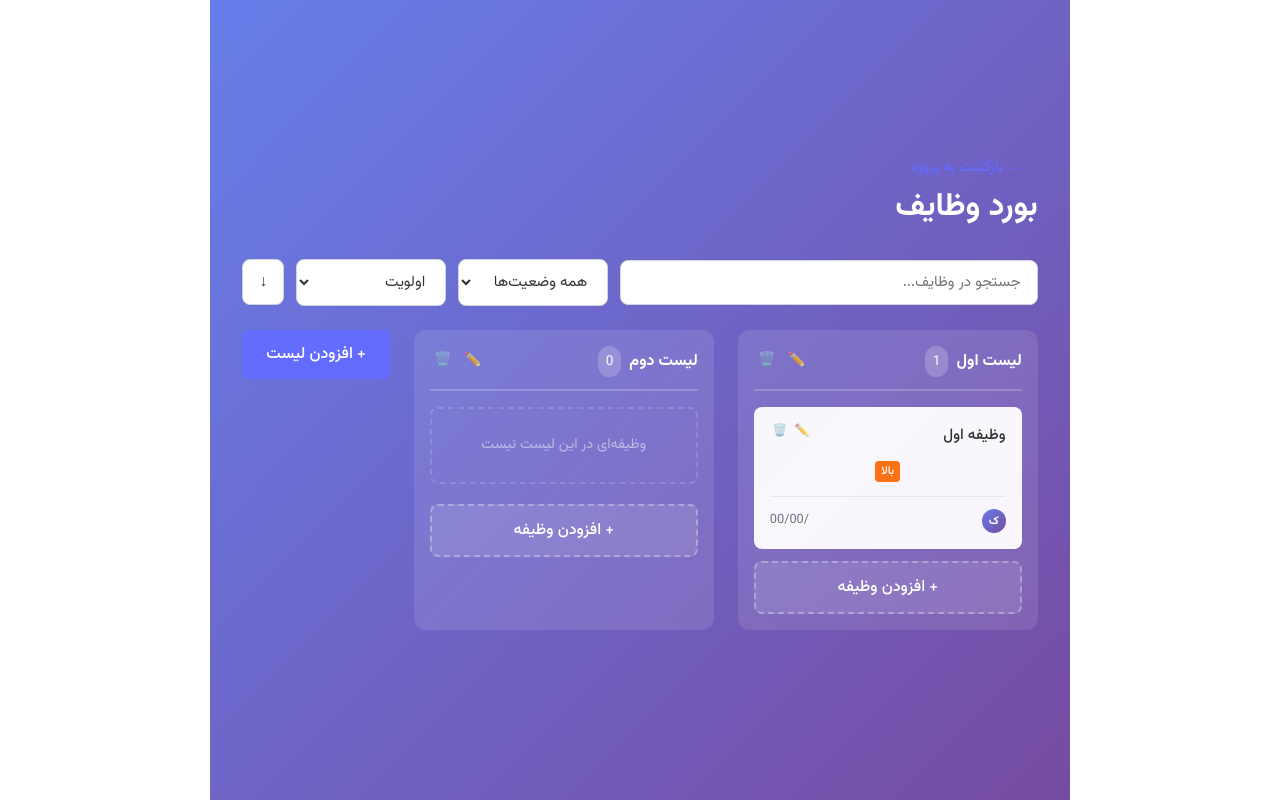
Test case: TaskBoard › Edit list › validates list name is required on update
The width and height of the screenshot is (1280, 800).
Expected: the heading "لیست اول" is shown, [956,348,1022,375]
Click the button "✏️" in the row of "لیست اول". click: x=797, y=362
box: [784,350,810,373]
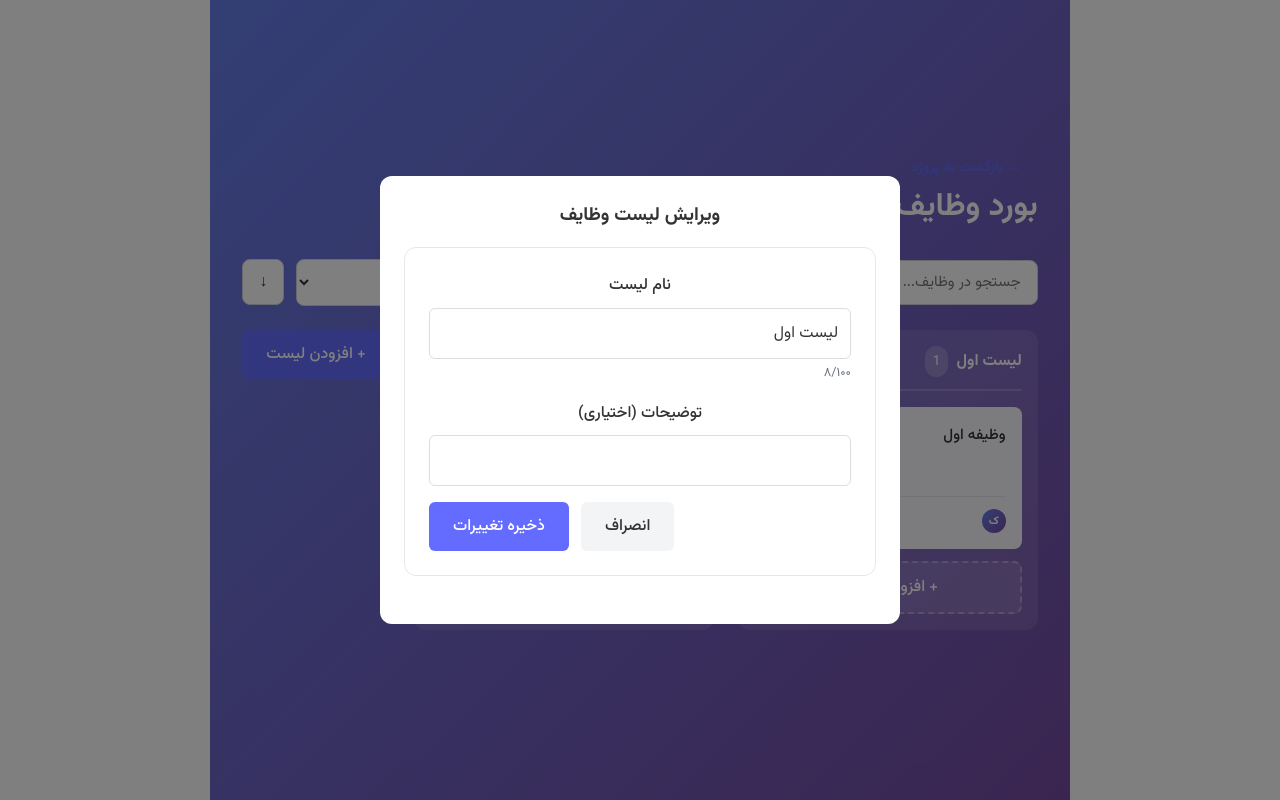
Click the field showing "لیست اول" below "نام لیست". click: x=640, y=333
box: [429,308,851,358]
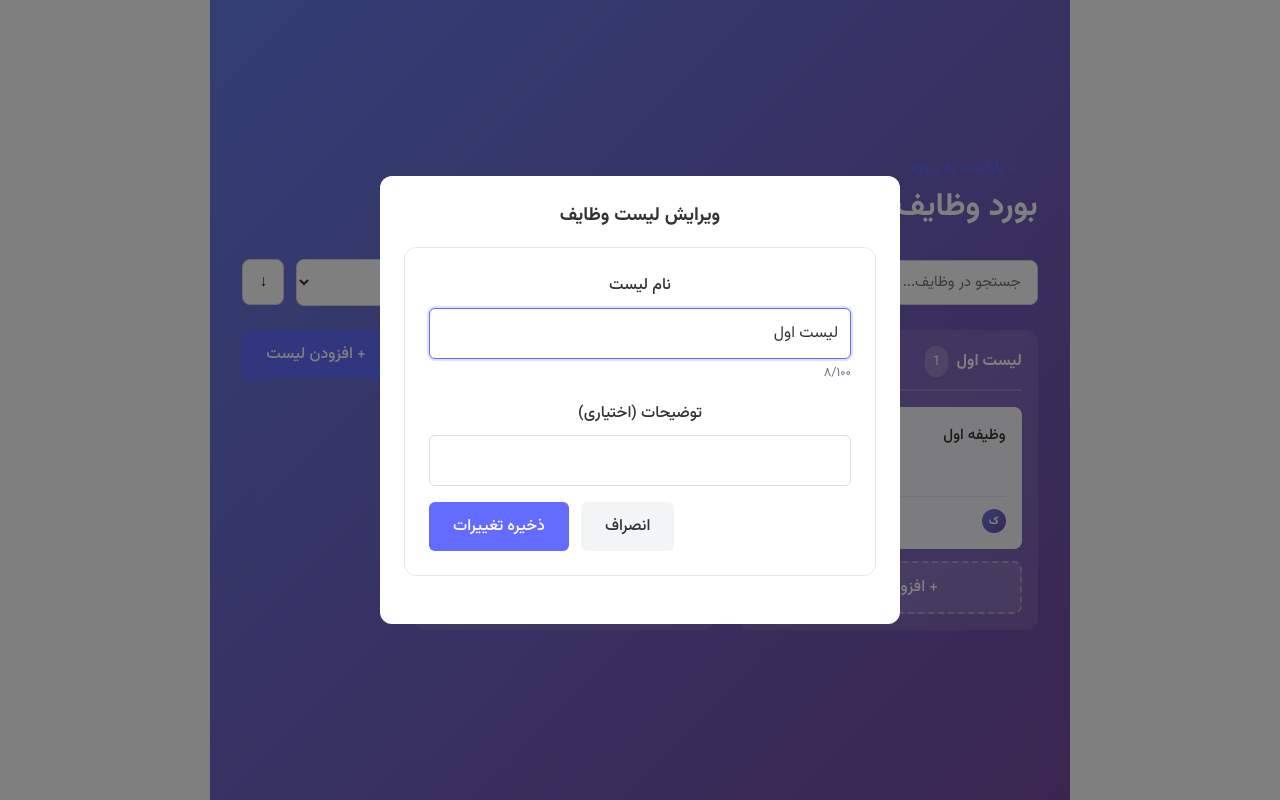
Type keys "{Control>}a{/Control}"
Press Delete
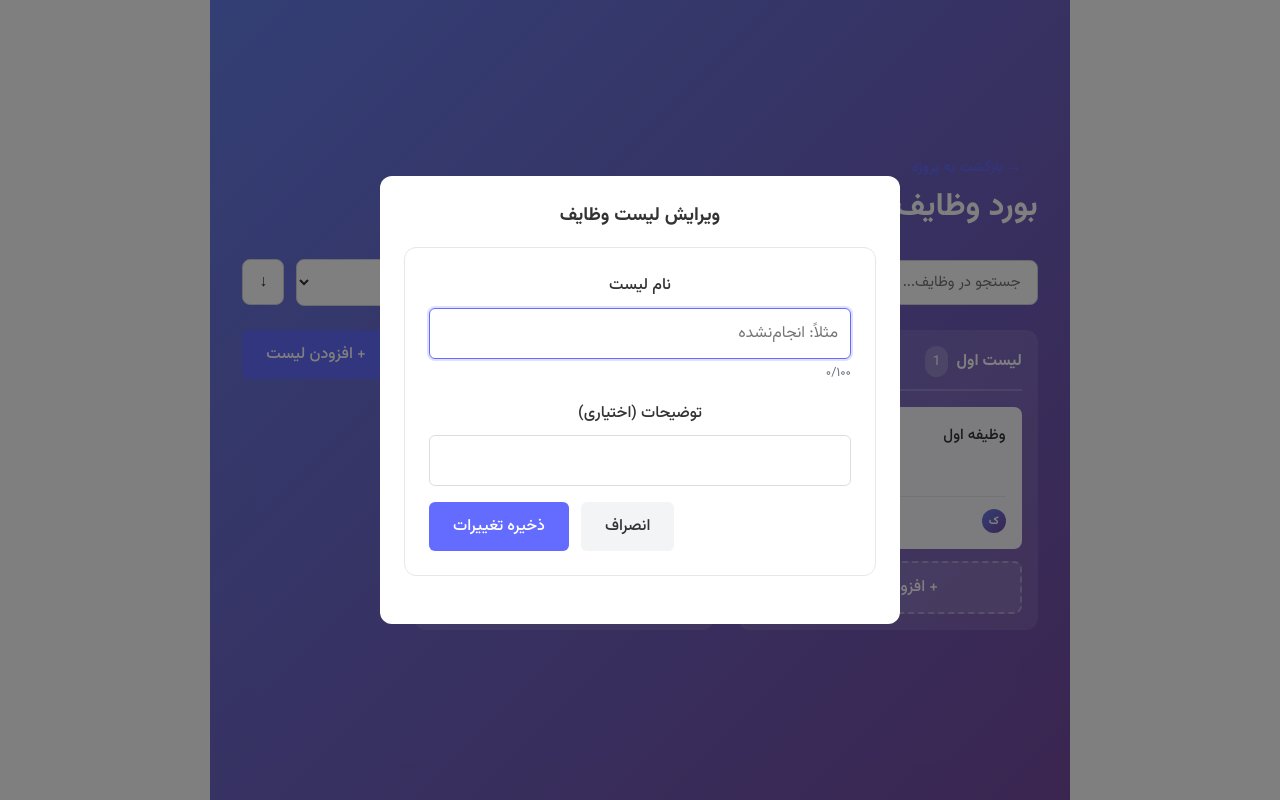
Submit the form, box [404,247,876,576]
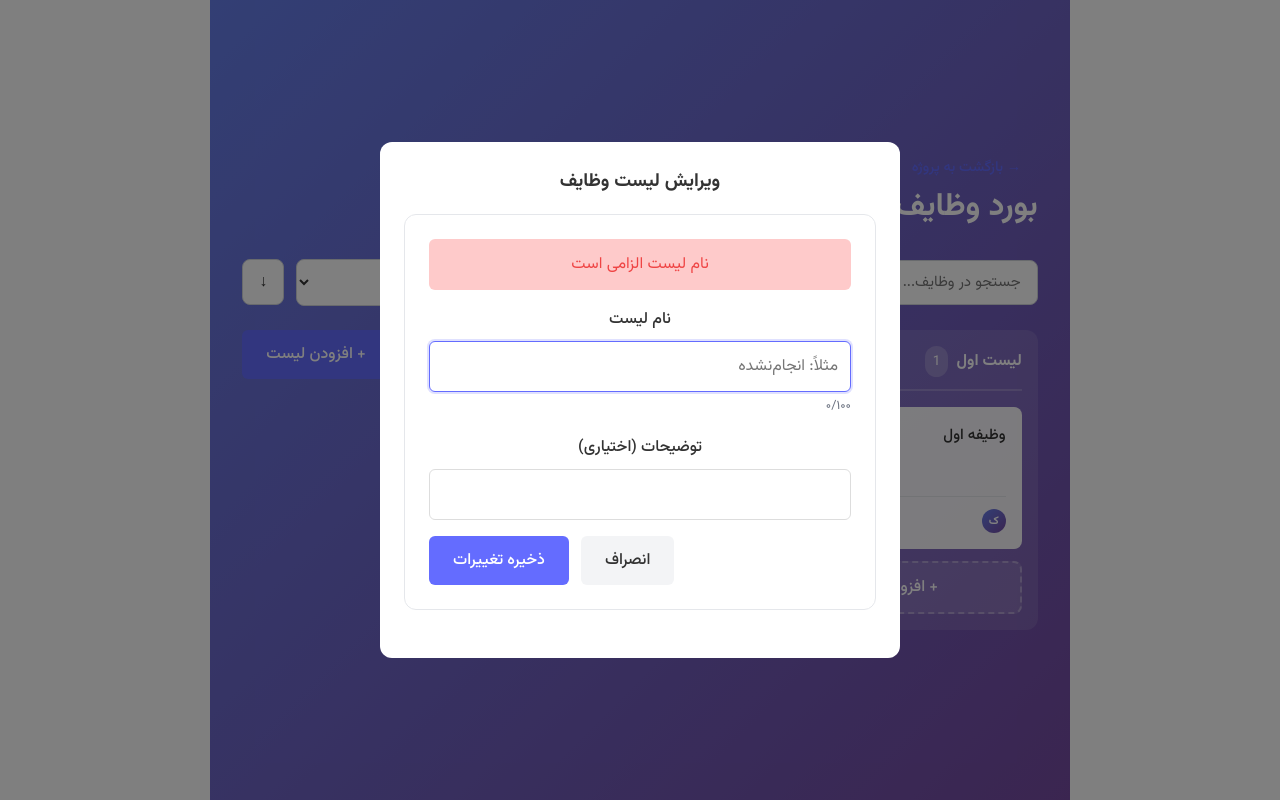
Now the text "نام لیست الزامی است" is shown, box [429,239,851,290]
